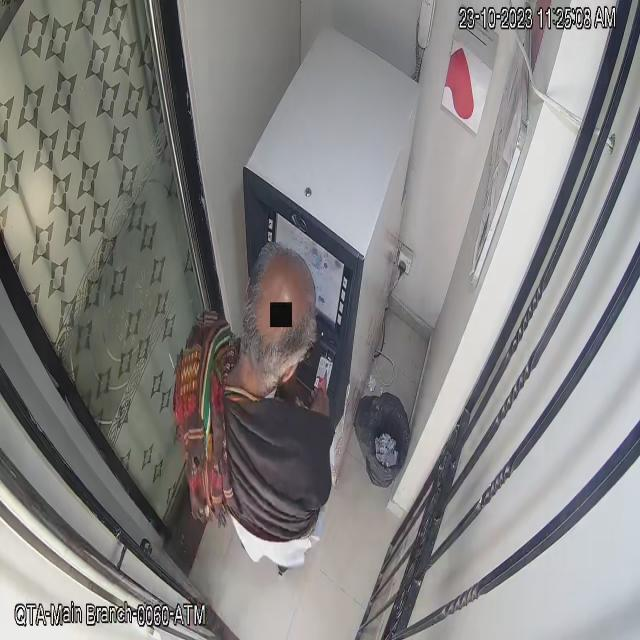atm-card: (311, 352, 336, 401)
